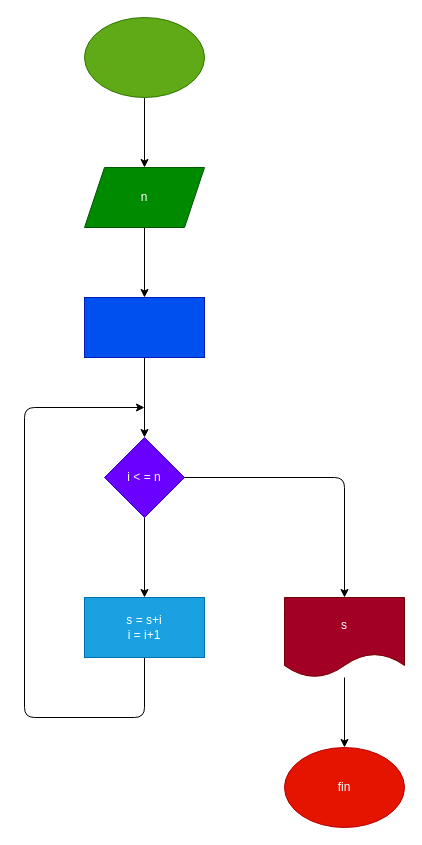
This 422x845 diagram has some shape labels left out. The centre of each missing label's shape, as x and y in pixels:
inicio: (x=144, y=57)
s = 0 i =1: (x=144, y=327)
